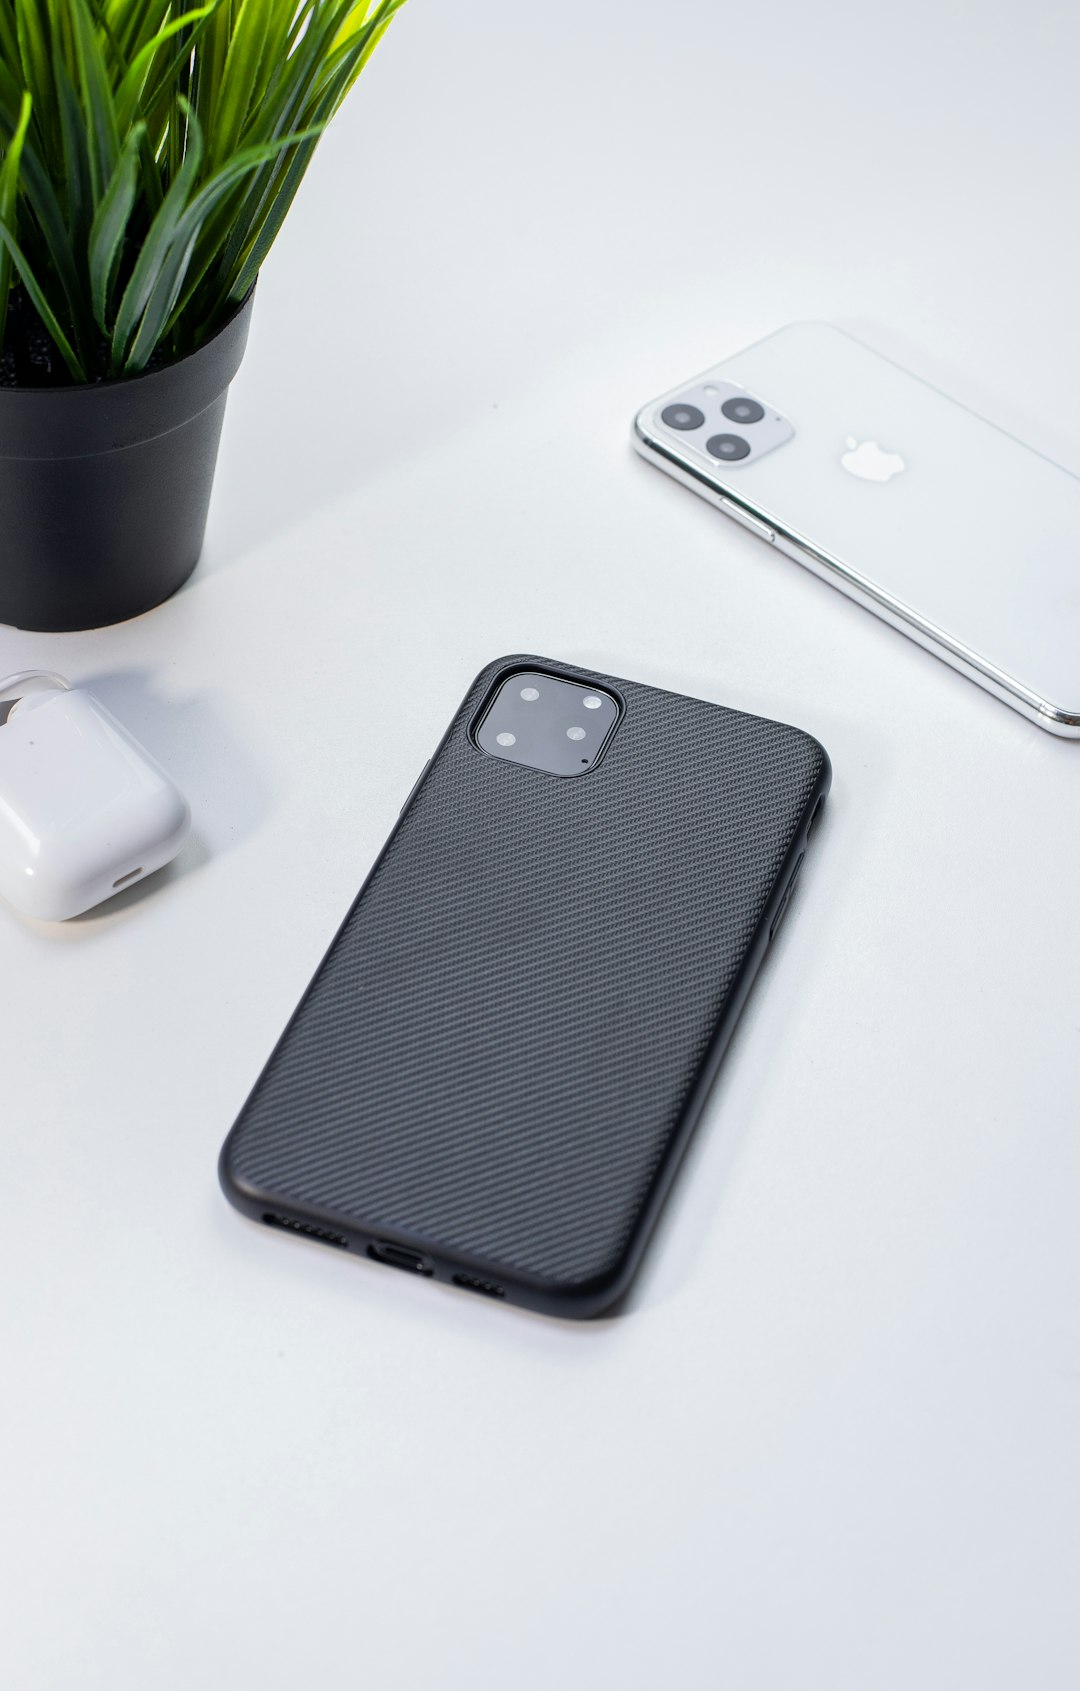phone: (218, 654, 836, 1329)
